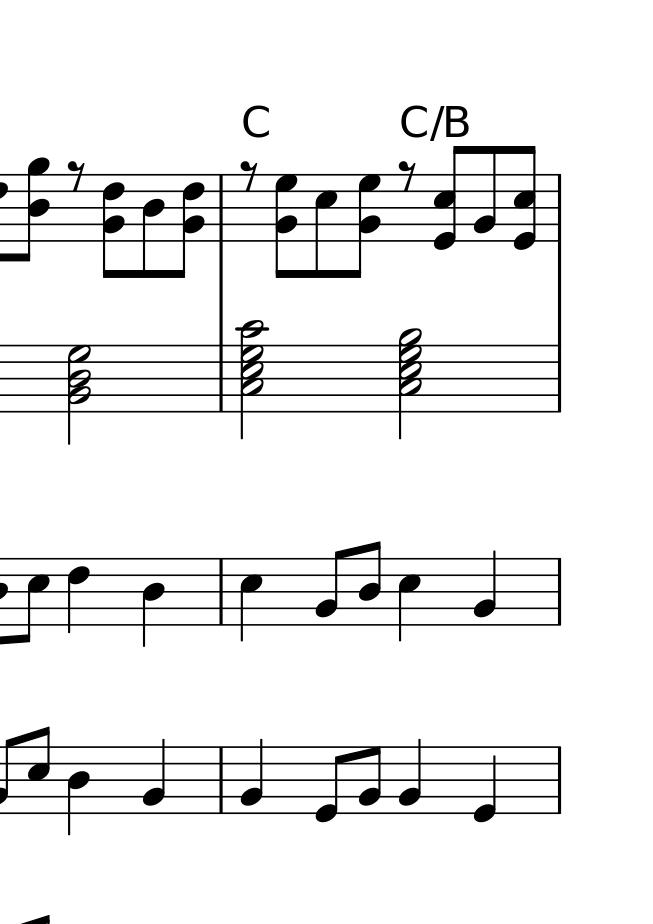2_4th: (236, 320, 268, 435), (396, 325, 424, 439)
2_th: (66, 340, 91, 445)
4_0: (471, 745, 499, 825)
4_2: (238, 737, 266, 815), (396, 738, 424, 815), (141, 737, 168, 816), (472, 550, 499, 627)
4_4: (141, 557, 165, 648), (66, 748, 91, 835)
4_5: (396, 557, 423, 642), (239, 556, 263, 645)
4_6: (66, 556, 90, 634)
8_0: (314, 745, 346, 825)
8_0_5: (432, 145, 464, 249), (510, 144, 538, 249)
8_2: (472, 144, 498, 243), (314, 548, 346, 626), (357, 745, 382, 815)
8_2_6: (177, 173, 205, 279), (101, 172, 126, 279)
8_2_7: (350, 172, 382, 277), (273, 174, 299, 280)
8_4: (141, 172, 166, 281), (357, 539, 381, 627)
8_4_8: (20, 155, 51, 262)
8_5: (312, 170, 338, 280), (18, 556, 49, 646), (26, 725, 51, 813)
Rests8: (67, 159, 87, 192), (239, 159, 259, 191), (398, 160, 418, 192)
Single_barline: (214, 559, 230, 623), (552, 175, 567, 242), (214, 345, 229, 412), (551, 346, 566, 412), (214, 747, 229, 813), (552, 747, 567, 813), (552, 559, 567, 624)
